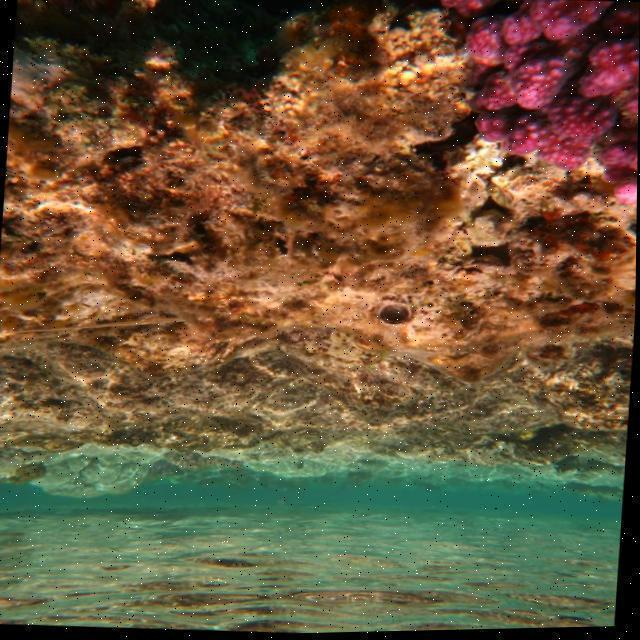Healthy Coral: (414, 0, 640, 217)
